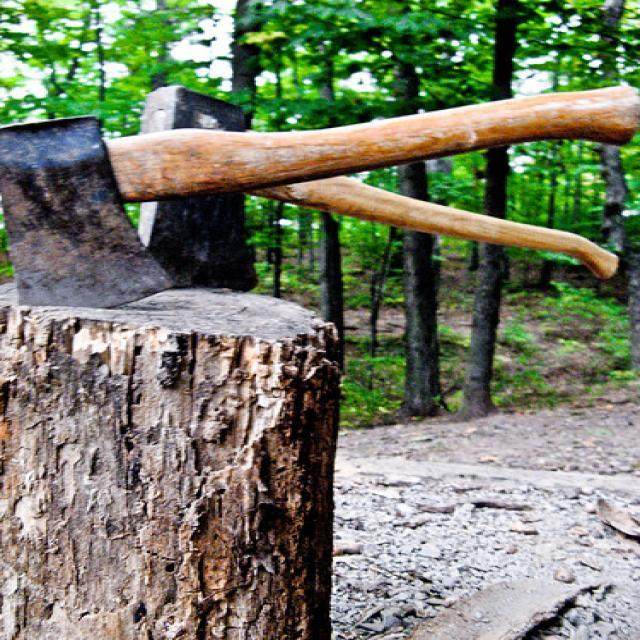Axe: (0, 86, 640, 307), (255, 178, 618, 278), (140, 192, 256, 289), (141, 86, 244, 131)
